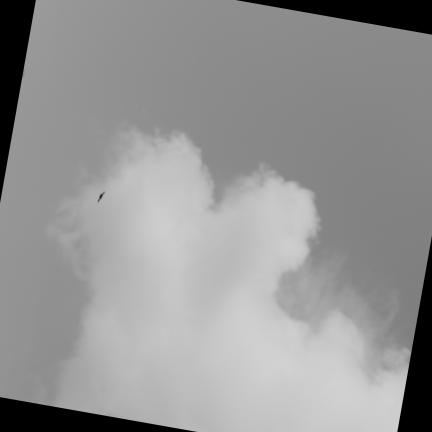Shahed: (96, 191, 104, 202)
